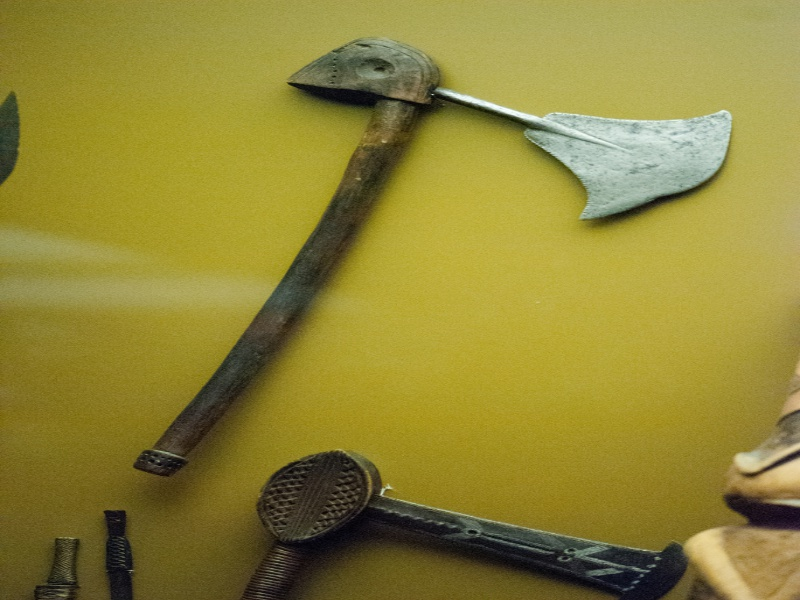axe: (121, 38, 738, 480)
